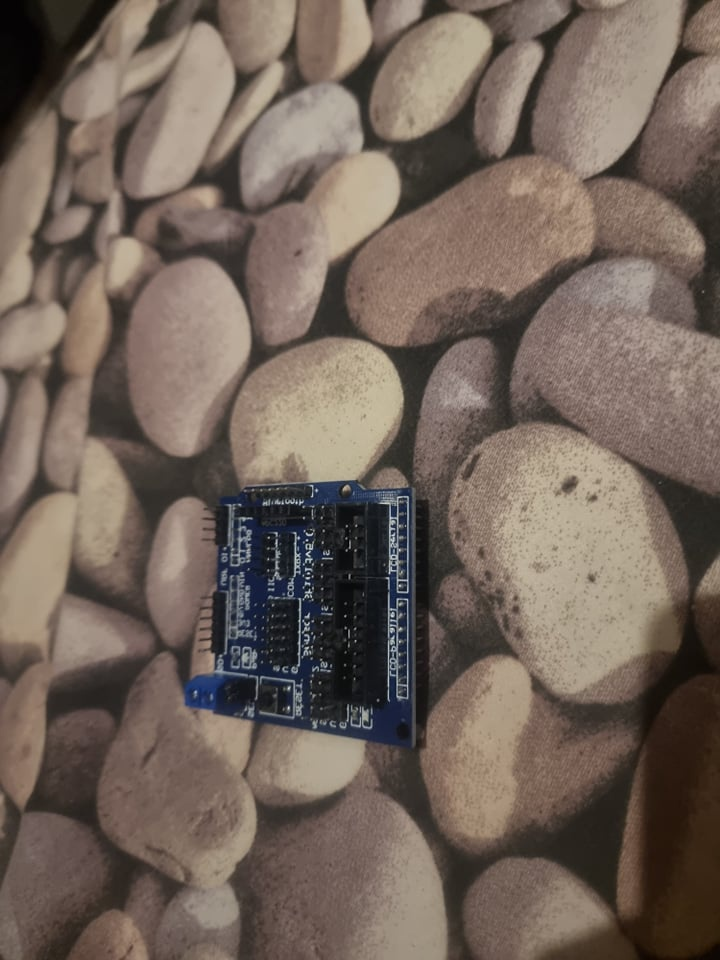5V EXPANSION: (186, 479, 422, 750)
